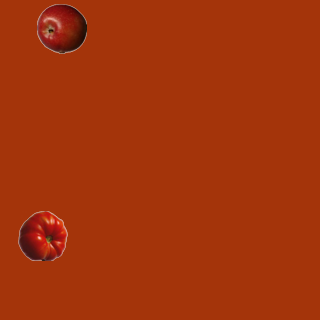Apple Braeburn: (36, 3, 86, 53)
Tomato 3: (17, 210, 67, 260)
